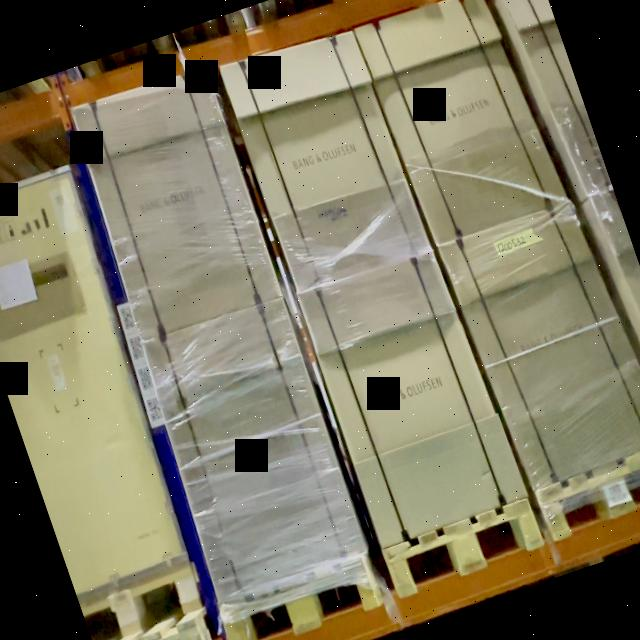box: (142, 295, 366, 597), (296, 247, 518, 543), (71, 64, 282, 334), (450, 203, 640, 488), (224, 30, 426, 289), (361, 0, 554, 244)
